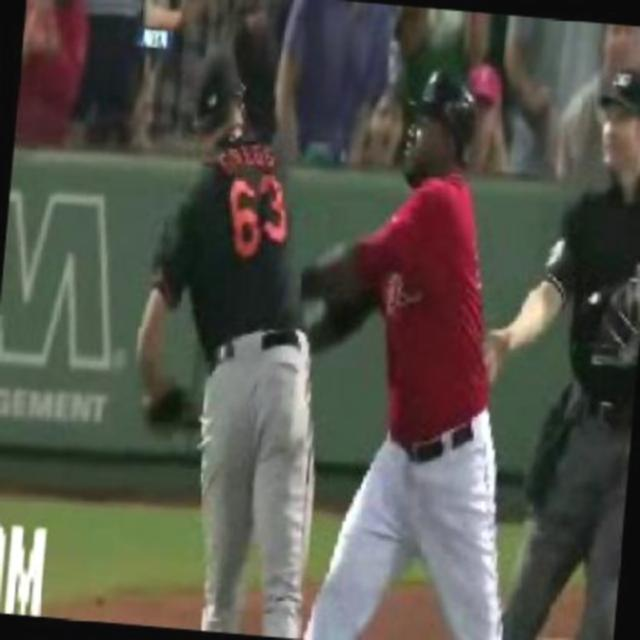fight: (108, 41, 556, 638)
